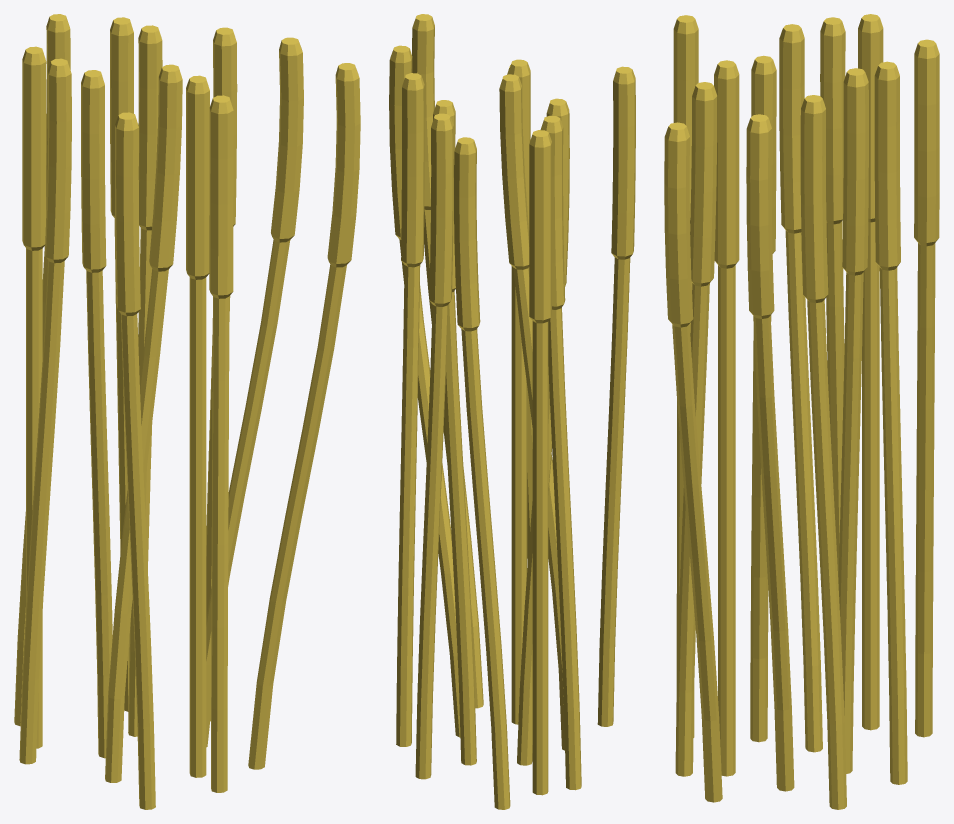
File: Wheat.fbx
3 renders of one model, left to right at view 1: azimuth 30°, elevation 25°; view 2: azimuth 150°, elevation 25°; view 3: azimuth 270°, elevation 25°, orthographic. The views are drawn at different scales.
Visible parts, largest first — view 1: Cylinder; view 2: Cylinder; view 3: Cylinder.
Part boxes in pixels (x1,y1,x2,y2): Cylinder: (14, 14, 360, 809); Cylinder: (389, 14, 635, 809); Cylinder: (664, 14, 939, 809).
Bounding box in the file's own units: 194 × 498 × 175.
